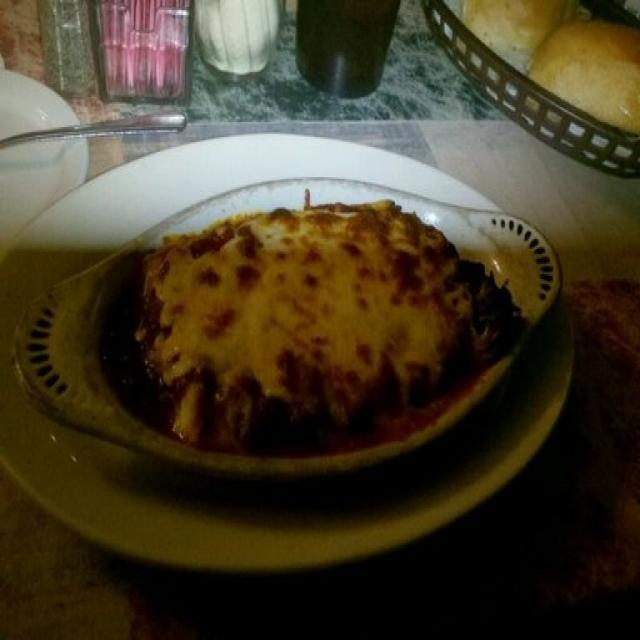Lasagna: (117, 177, 515, 488)
